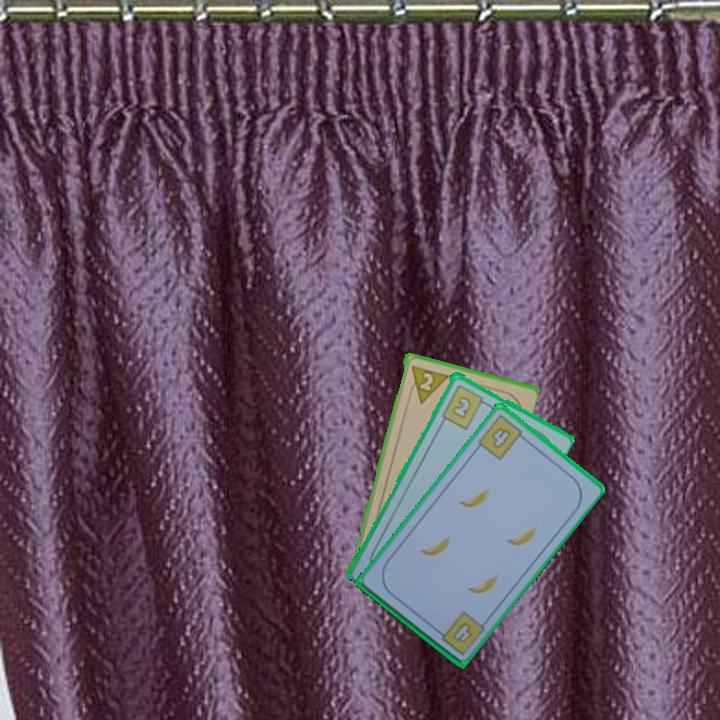2b: (438, 380, 491, 432)
2p: (405, 362, 450, 406)
4b: (474, 410, 530, 463), (448, 618, 475, 646)
